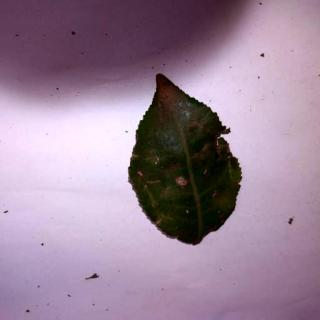Anthracnose: (129, 75, 245, 248)
